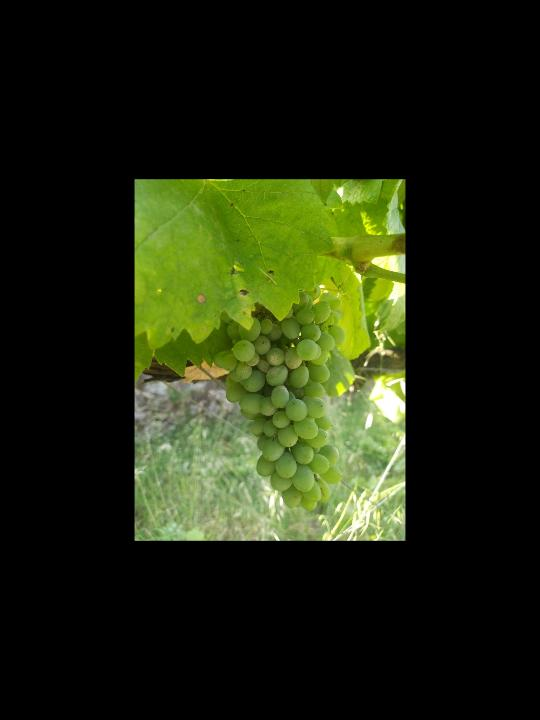grape: (213, 285, 348, 512)
